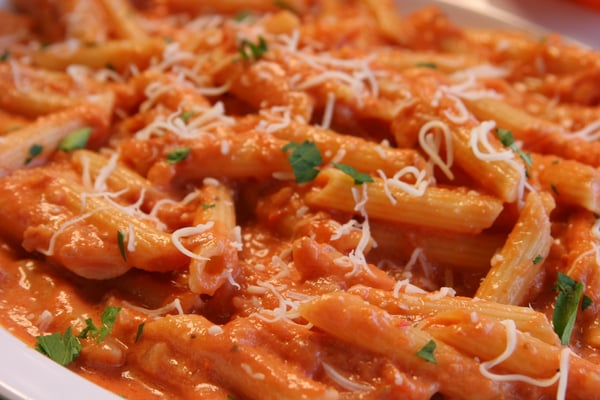sandwich: (0, 0, 597, 392)
